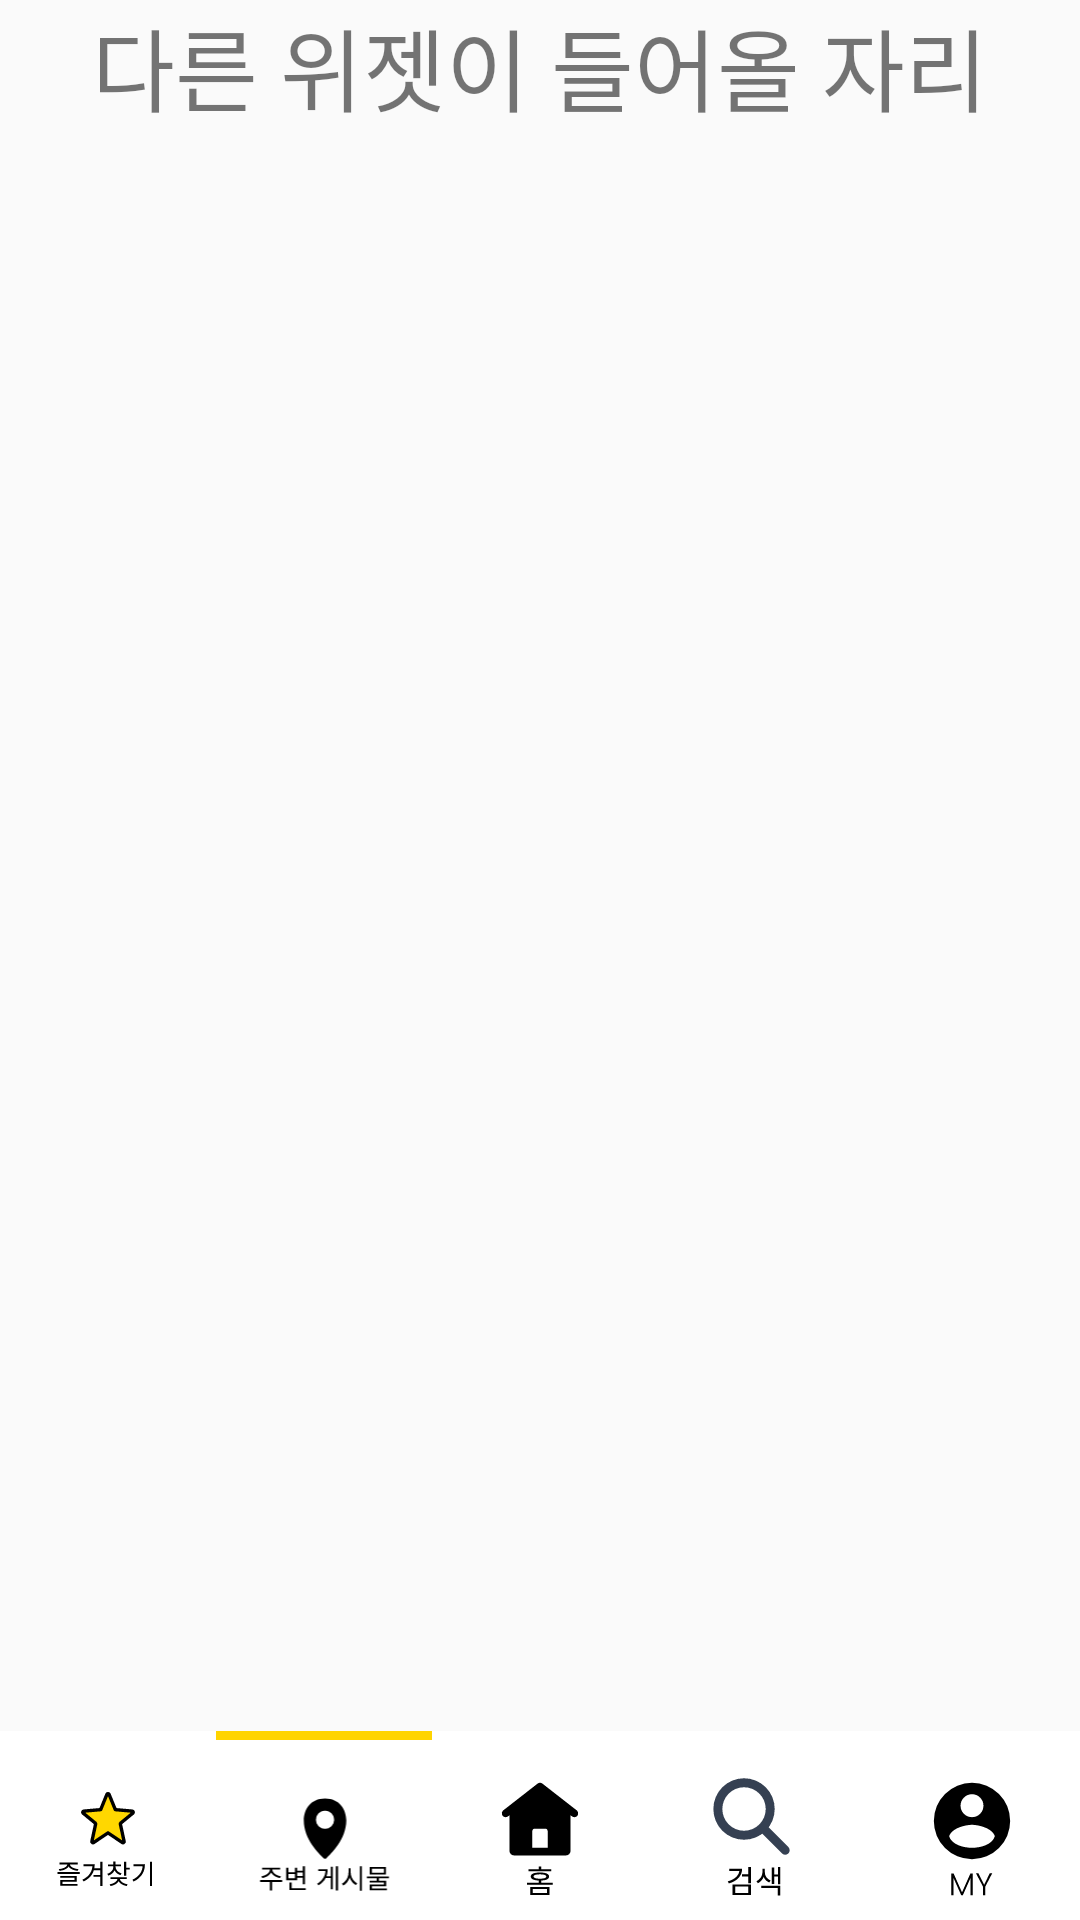

Icon bounding boxes for this 1080x1920 phone screenshot, format (x1, y1, x2, y2):
profile: (933, 1782, 1011, 1896)
